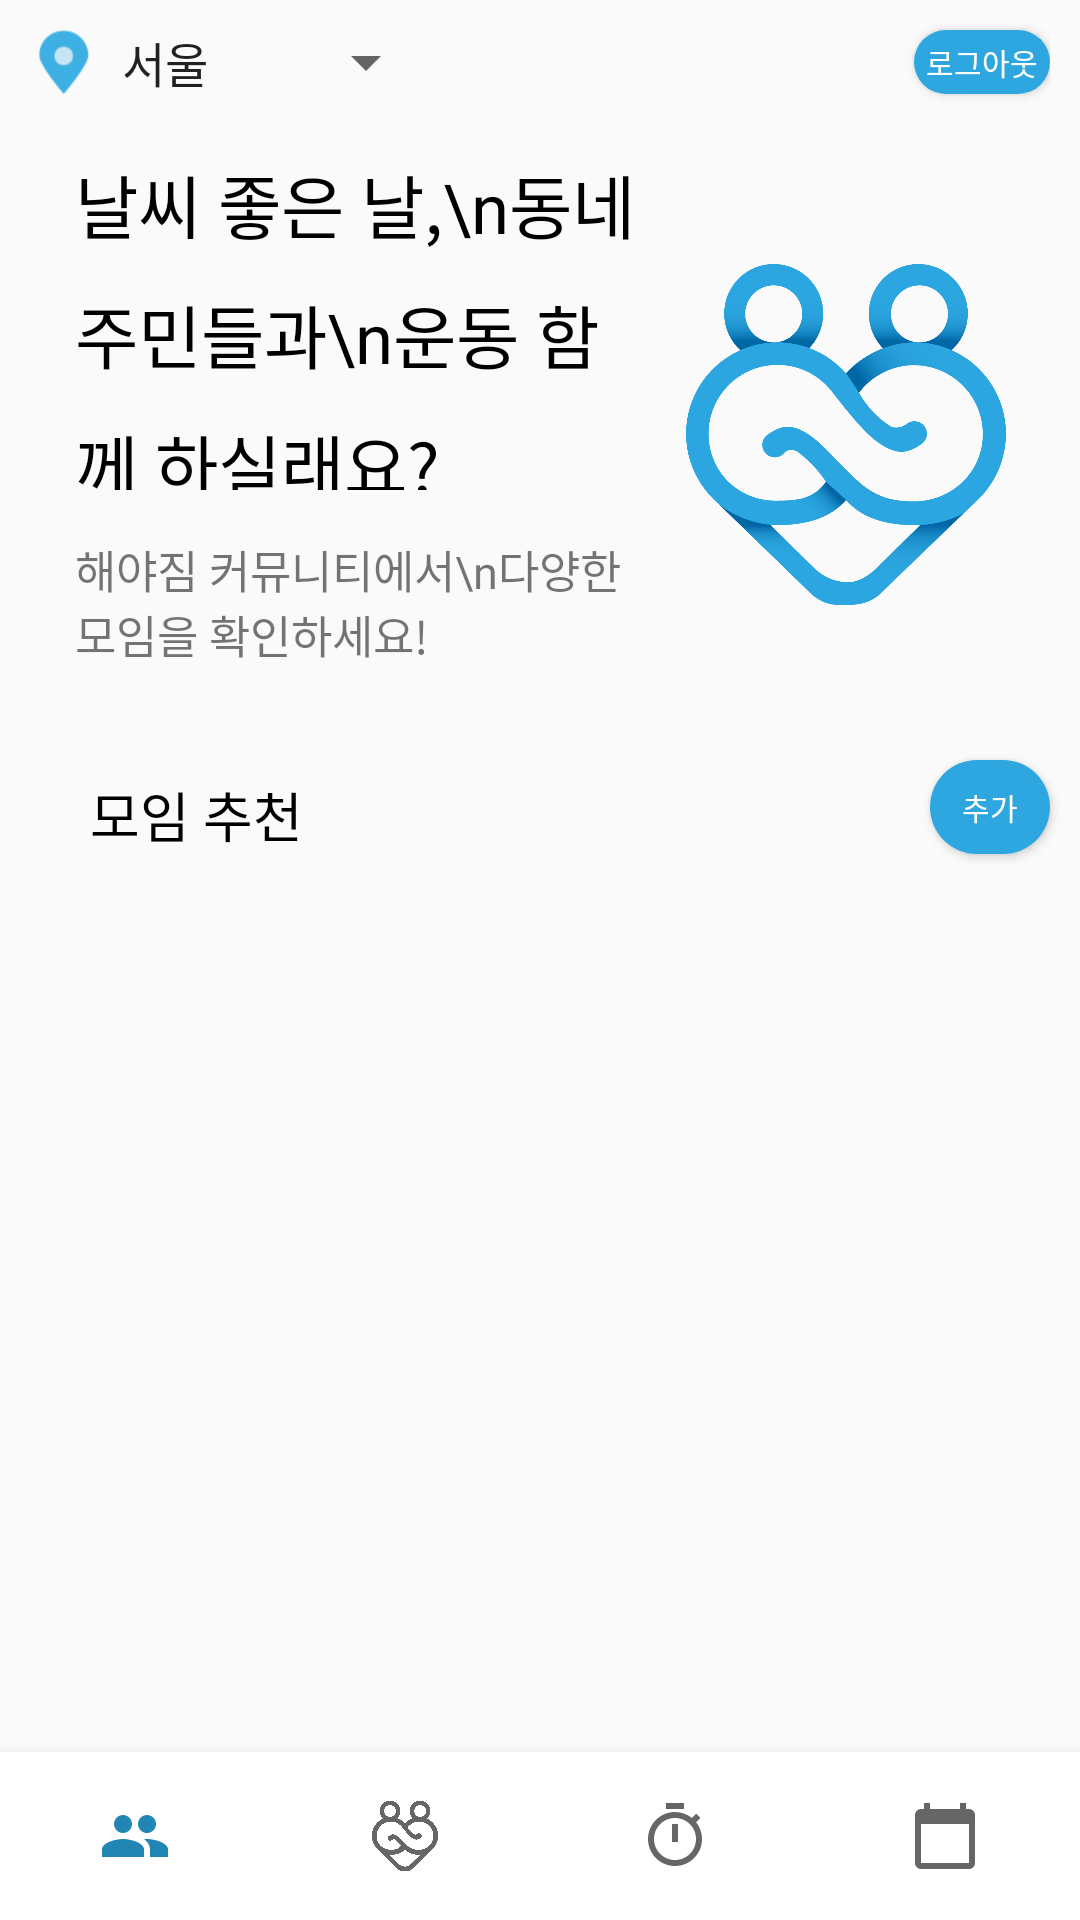

Where icons sit on this 1080 x 1920 app screen, as (x1, y1, x2, y2):
mark: (39, 30, 89, 94)
